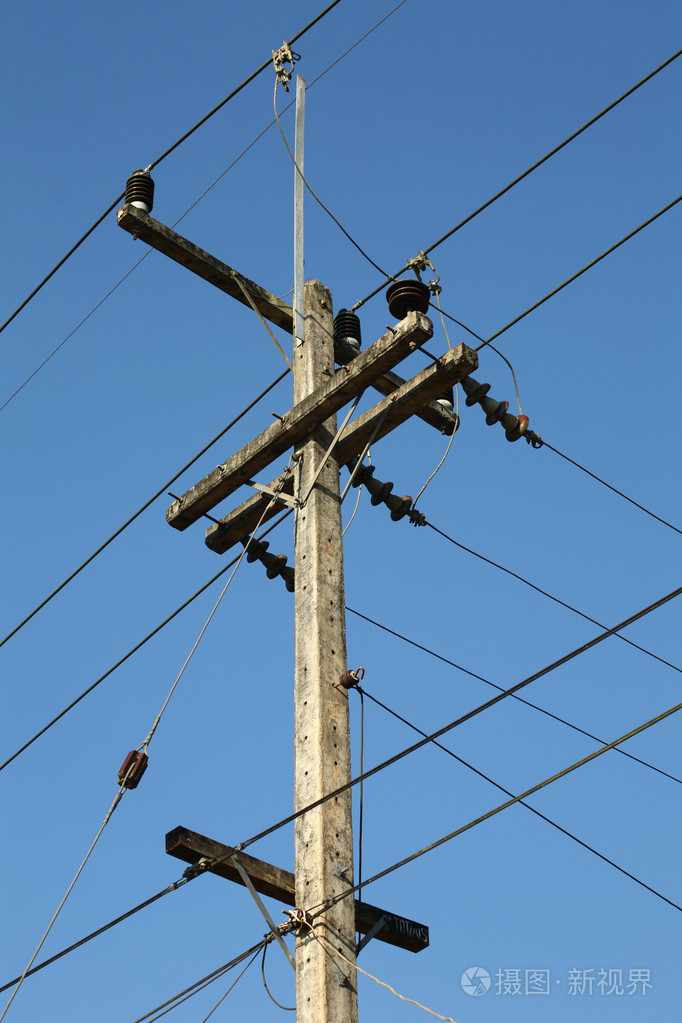insulator: (344, 464, 414, 521), (462, 385, 530, 442), (246, 536, 296, 596)
